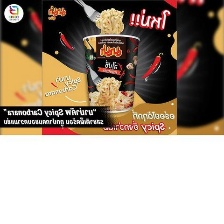paper_cup: (79, 31, 143, 116)
